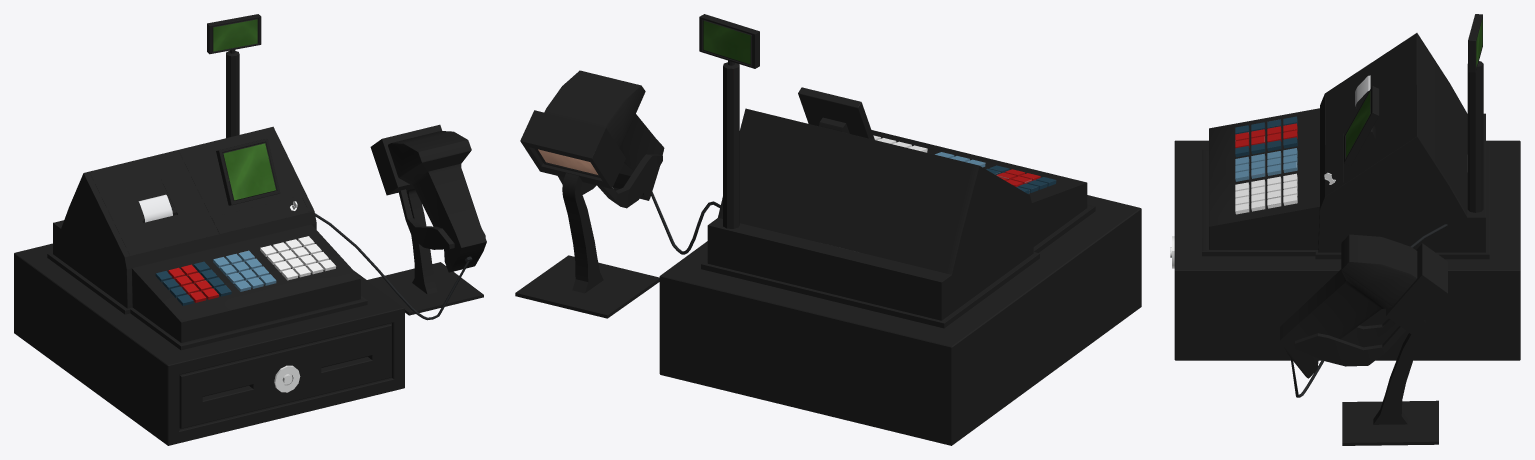
The model's file is CashRegister.fbx.
3 views of the same model, side by side, from view 1: azimuth 30°, elevation 25°; view 2: azimuth 150°, elevation 25°; view 3: azimuth 270°, elevation 25° (orthographic). The views are drawn at different scales.
Visible parts, largest first — view 1: Cash_register; view 2: Cash_register; view 3: Cash_register.
Part boxes in pixels (x1,y1,x2,y2): Cash_register: (14, 14, 486, 445); Cash_register: (515, 14, 1141, 445); Cash_register: (1170, 14, 1520, 445).
Bounding box in the file's own units: 53.31 × 36.62 × 36.88.
